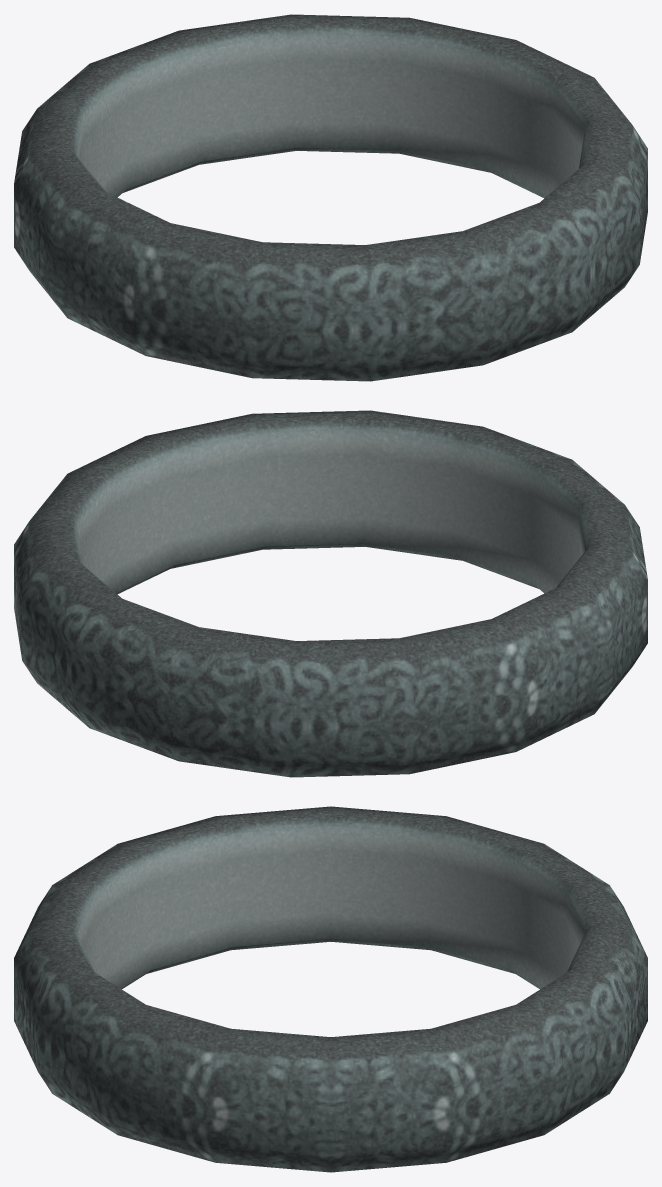
3 renders of one model, top to bottom at view 1: azimuth 30°, elevation 25°; view 2: azimuth 150°, elevation 25°; view 3: azimuth 270°, elevation 25°, orthographic.
Parts seen in each view (by area): view 1: LowPoly; view 2: LowPoly; view 3: LowPoly.
Part boxes in pixels (box(x1,y1,x2,y2)): LowPoly: box(14, 14, 647, 381); LowPoly: box(14, 410, 647, 777); LowPoly: box(14, 806, 647, 1172).
Size of the model in its own units: 194 by 42.47 by 194.
Materials: 1 (1 with a texture image).
